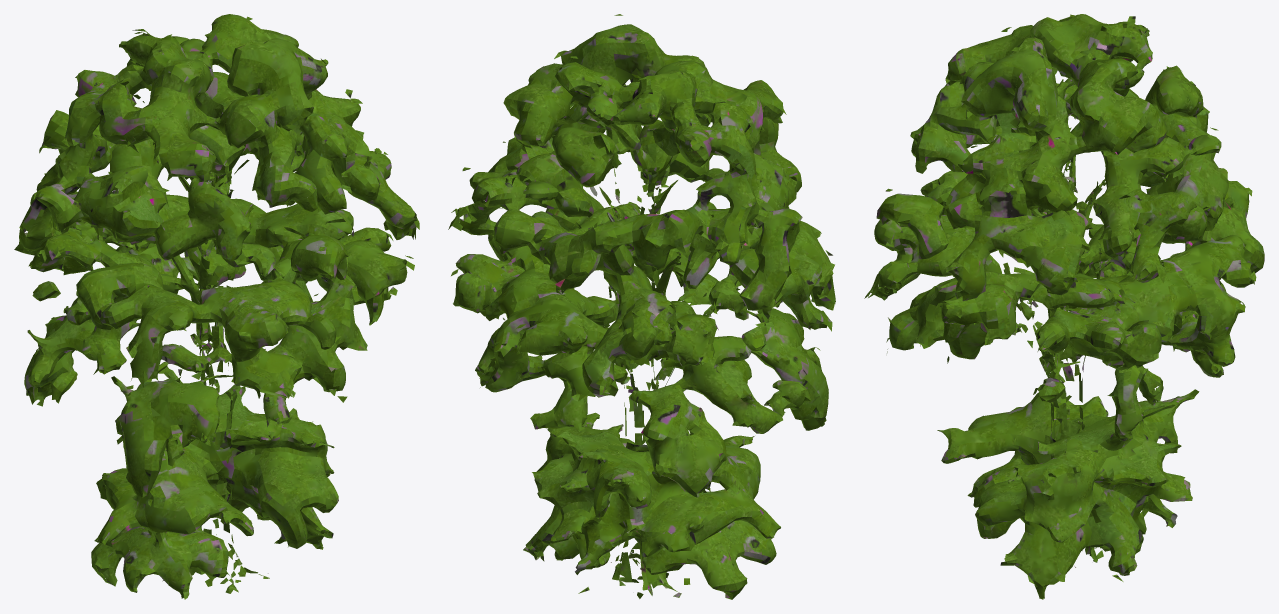
File: veg_tree_beech_01.obj
3 views of the same model, side by side, from view 1: azimuth 30°, elevation 25°; view 2: azimuth 150°, elevation 25°; view 3: azimuth 270°, elevation 25° (orthographic).
Visible parts, largest first — view 1: veg_tree_beech_01; view 2: veg_tree_beech_01; view 3: veg_tree_beech_01.
Part boxes in pixels (x1,y1,x2,y2): veg_tree_beech_01: (14, 14, 419, 599); veg_tree_beech_01: (448, 14, 835, 599); veg_tree_beech_01: (864, 14, 1264, 599).
Size of the model in its own units: 11.22 by 17.11 by 11.5.
1 material, 1 textured.
